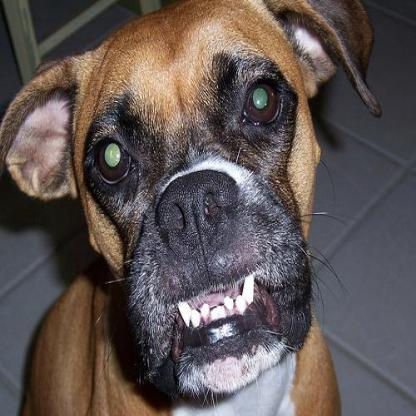boxer: (1, 0, 379, 410)
